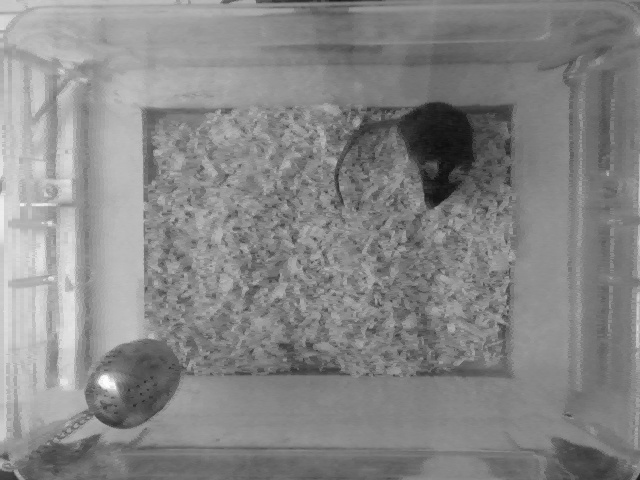mice: (335, 99, 478, 207)
